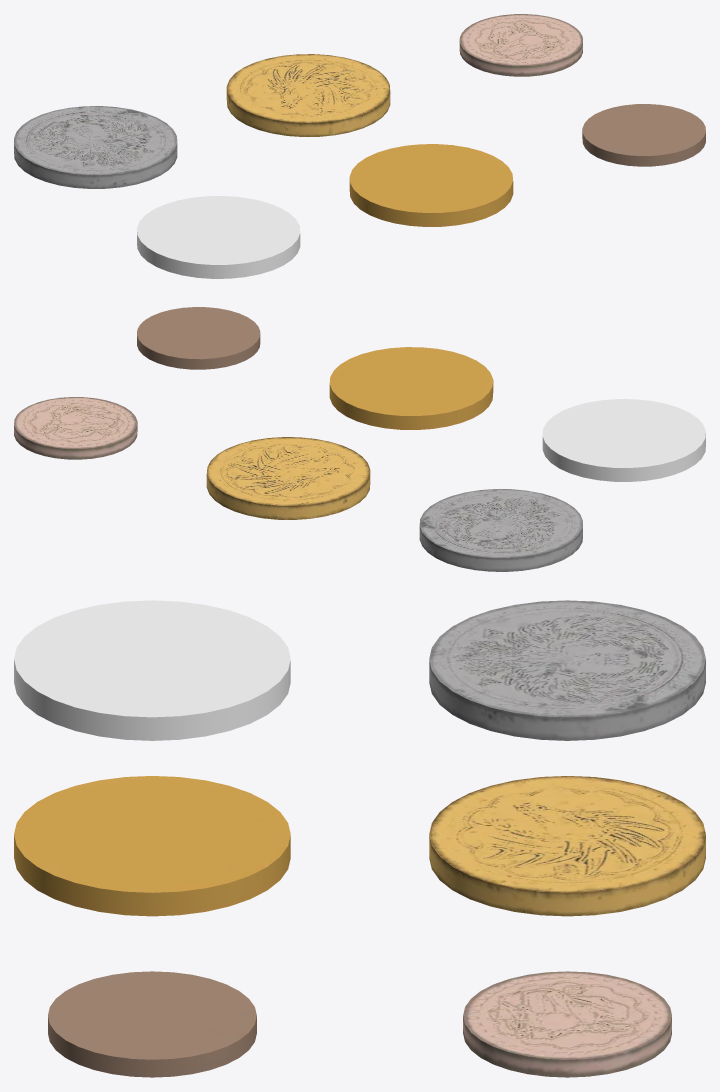
File: coins.glb
The picture shows the model from 3 angles, top to bottom: view 1: azimuth 30°, elevation 25°; view 2: azimuth 150°, elevation 25°; view 3: azimuth 270°, elevation 25°; orthographic projection. The views are drawn at different scales.
Visible parts, largest first — view 1: Coin_Copper-Old_Coins_0; view 2: Coin_Copper-Old_Coins_0; view 3: Coin_Copper-Old_Coins_0.
Boxes of the visible parts, bbox=[...] form: Coin_Copper-Old_Coins_0: bbox=[14, 14, 705, 278]; Coin_Copper-Old_Coins_0: bbox=[14, 307, 705, 571]; Coin_Copper-Old_Coins_0: bbox=[14, 600, 705, 1077].
Bounding box in the file's own units: 20.16 × 0.4882 × 12.99.
1 material, 1 textured.
